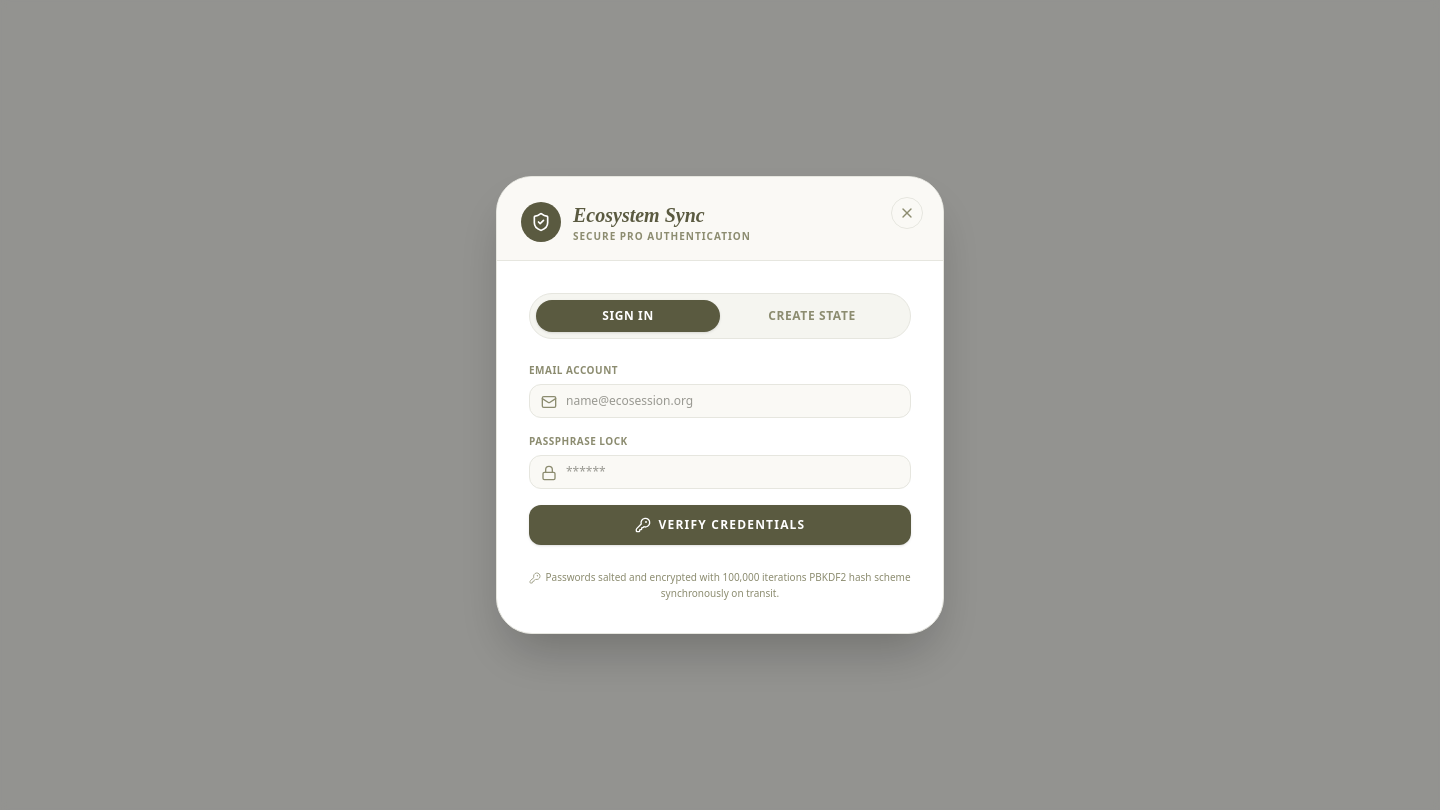
Test: AuthModal Component › runs local validation for incorrect email addresses
The image size is (1440, 810).
In the field with placeholder "name@ecosession.org": (720, 401) [529,384,911,418], type "invalidemail"
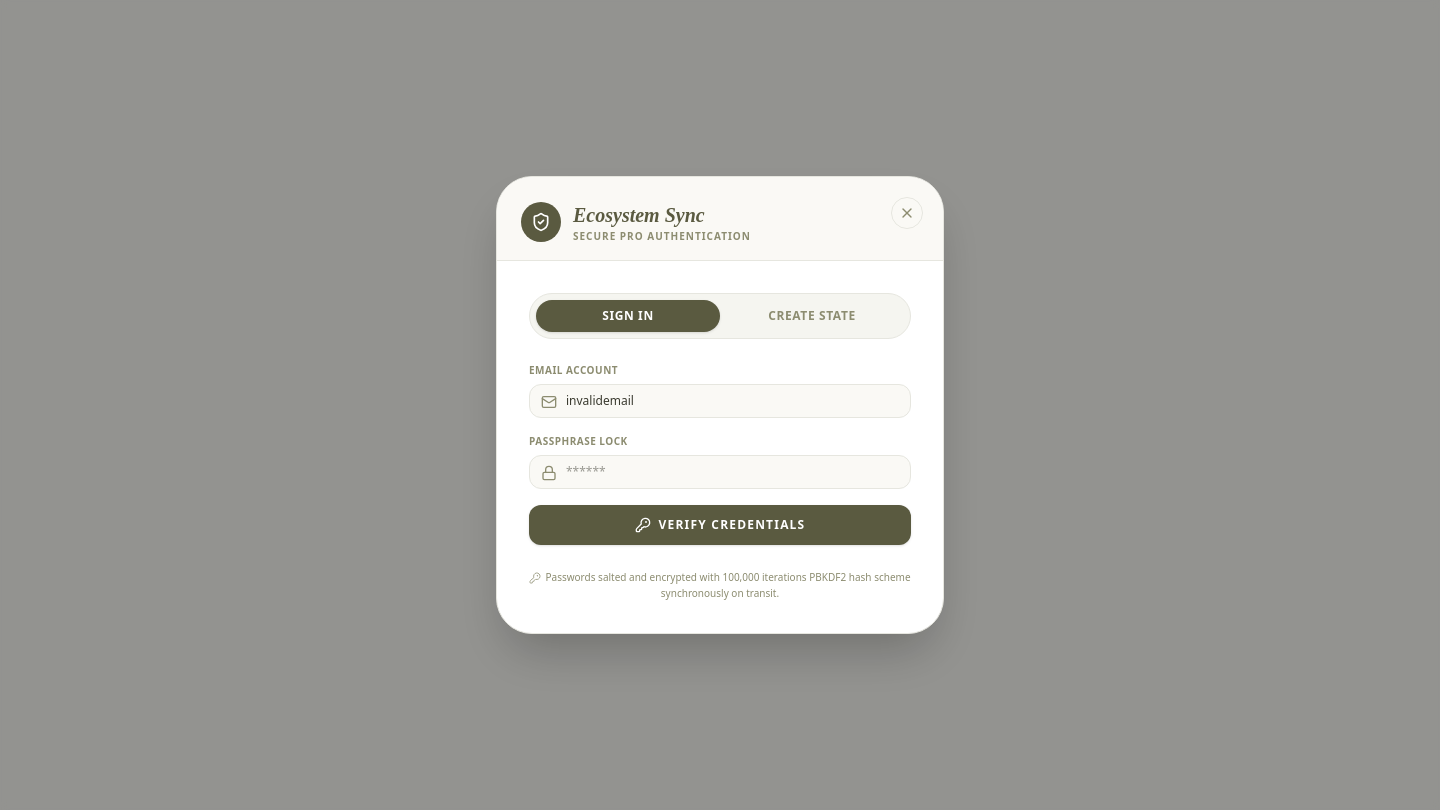
In the password field with placeholder "******": (720, 472) [529,455,911,489], type "123456"
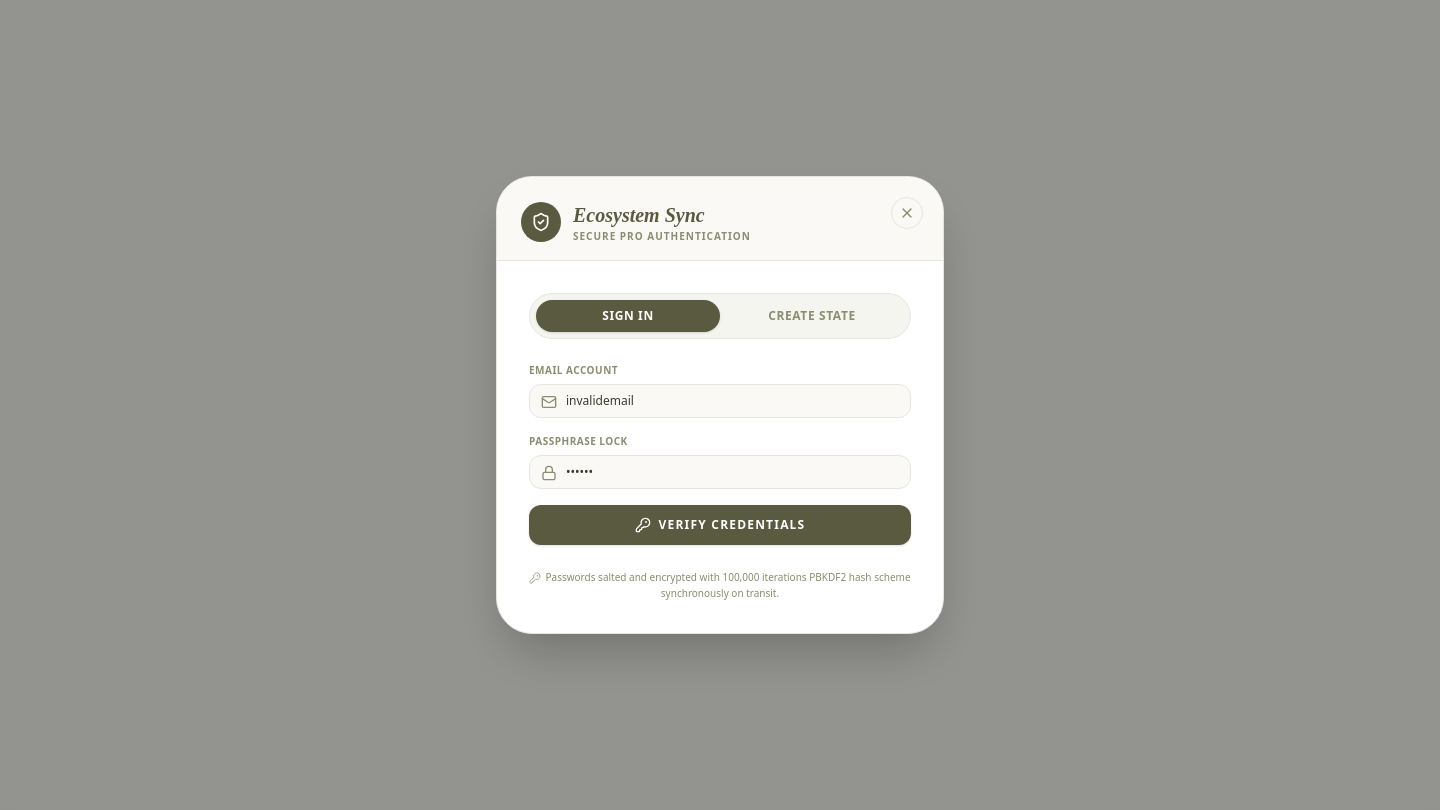
Click the button "Verify Credentials": (720, 525) [529,505,911,545]
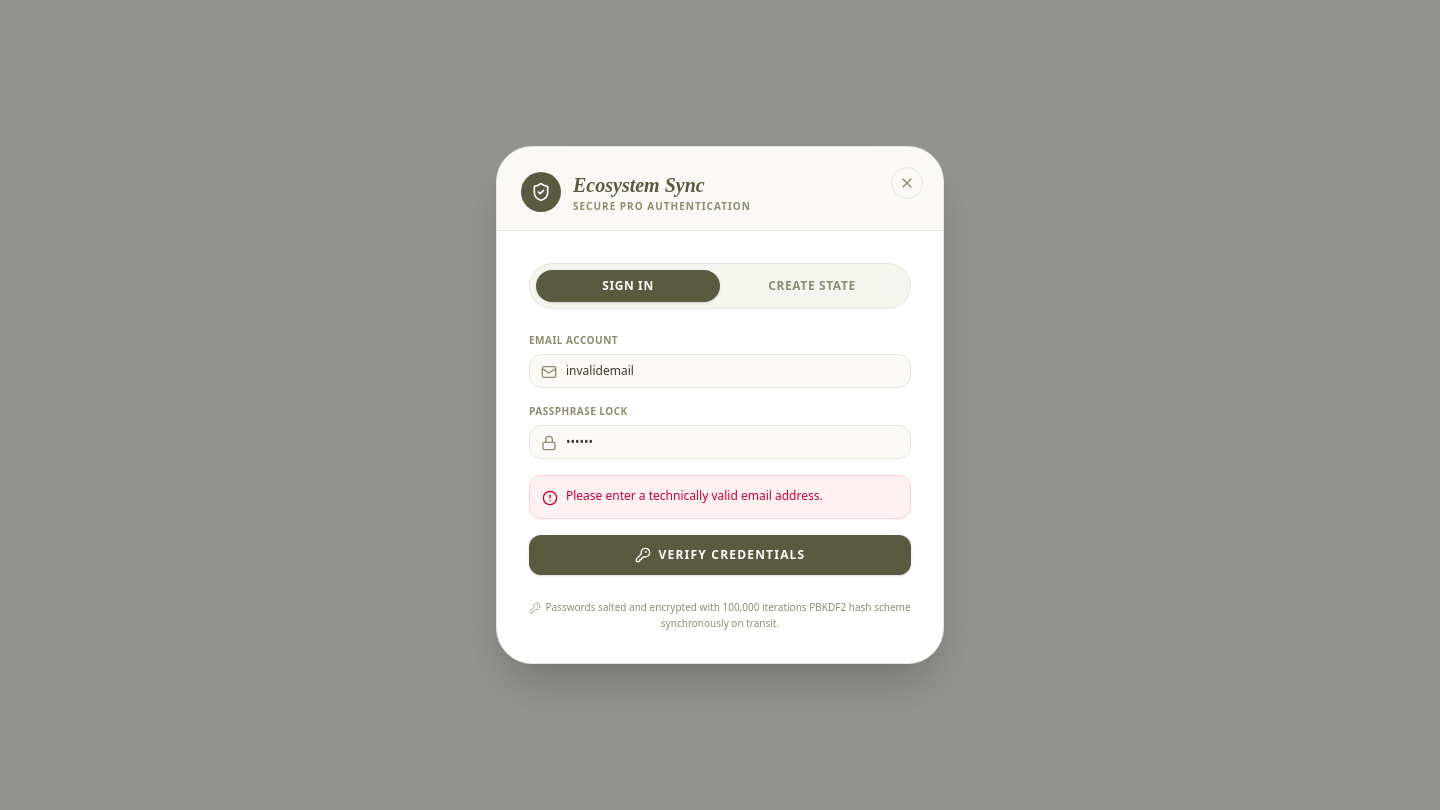
Expected: the text "Please enter a technically valid email address." is shown, [566,488,823,504]
